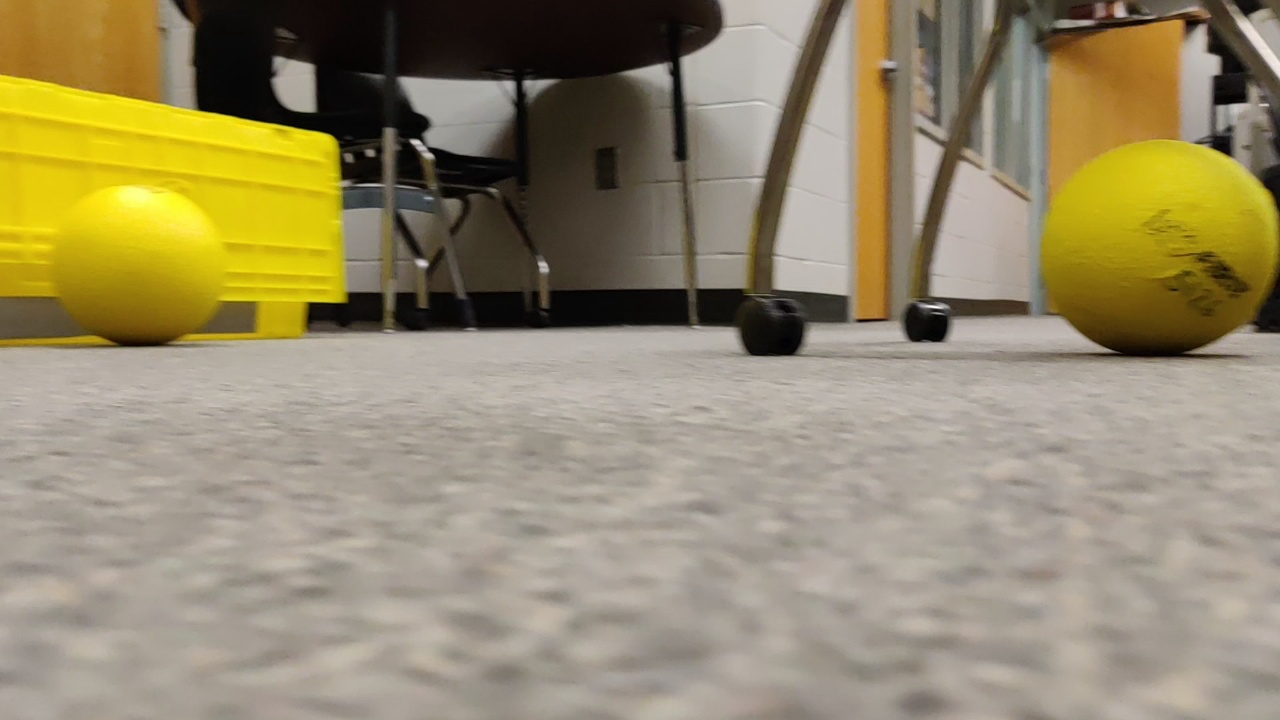Ball: (1032, 132, 1278, 369), (58, 183, 221, 343)
